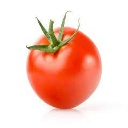tomato: (26, 27, 101, 109)
